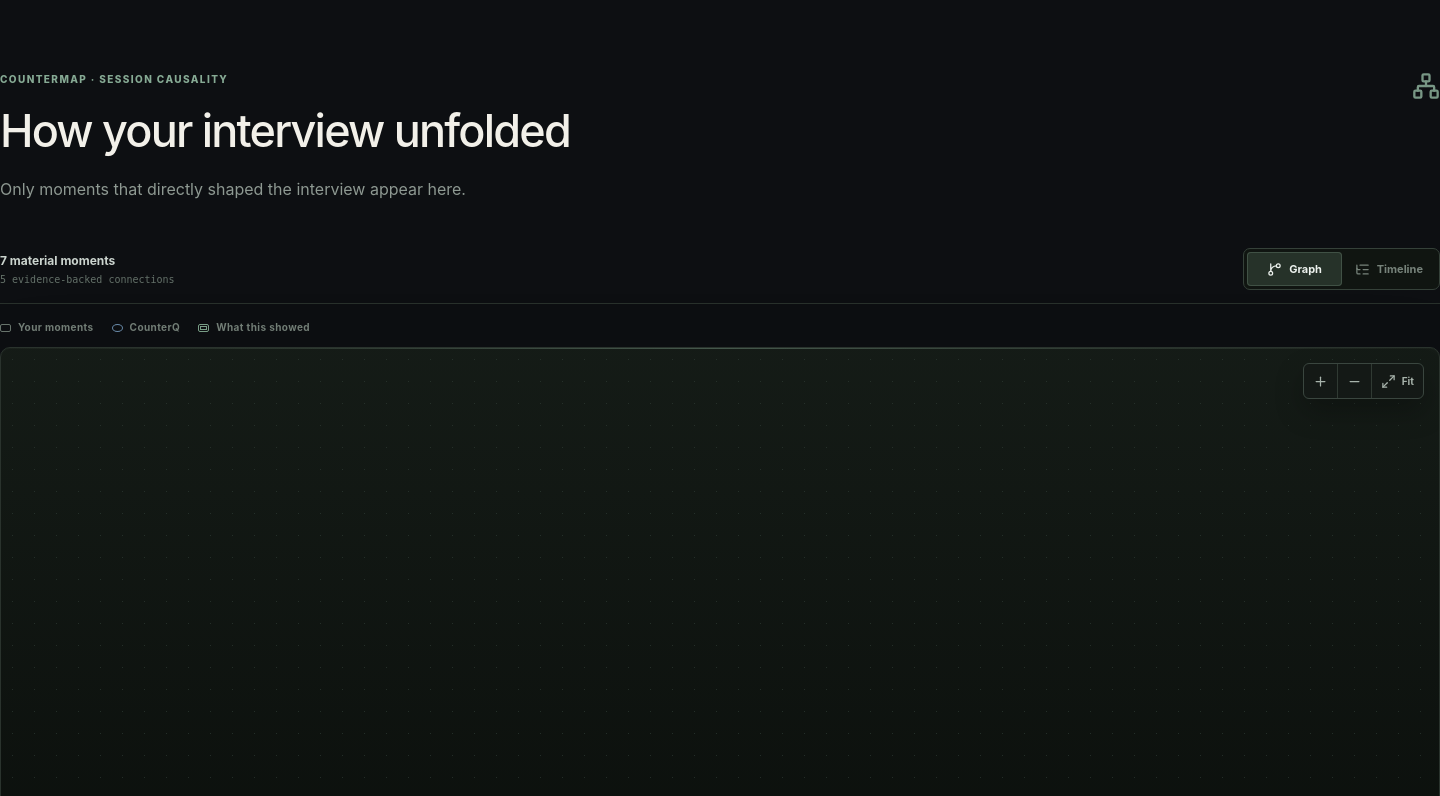
Test: CounterMap Reasoning Timeline › loads a persisted READY projection through the candidate API
The image size is (1440, 796).
Expected: the heading "How your interview unfolded" is shown, x1=0 y1=103 x2=570 y2=158
Click the button "Timeline": x=1389, y=269 x1=1342 y1=252 x2=1436 y2=286
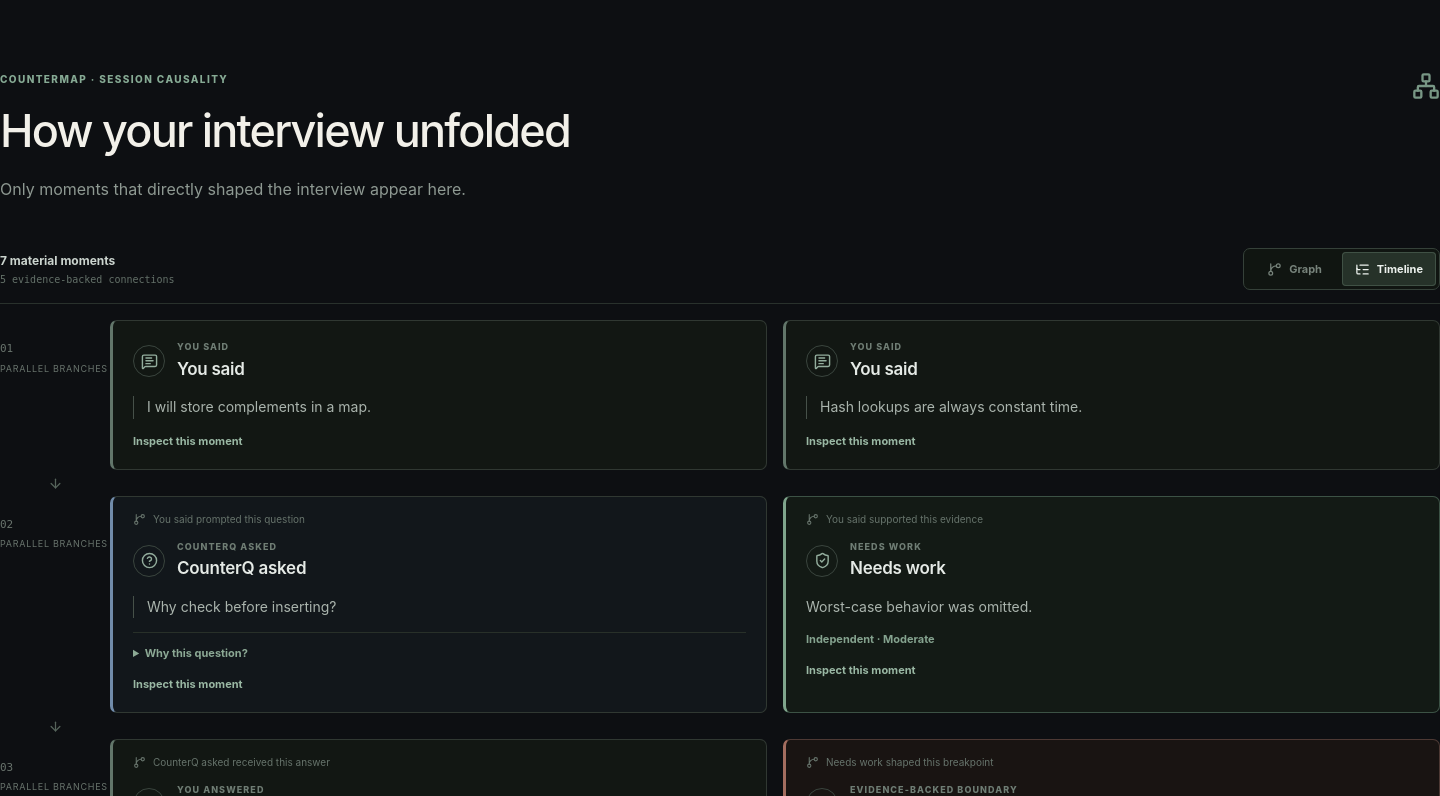
Now the heading "CounterQ asked" is shown, box x1=177 y1=556 x2=306 y2=582
